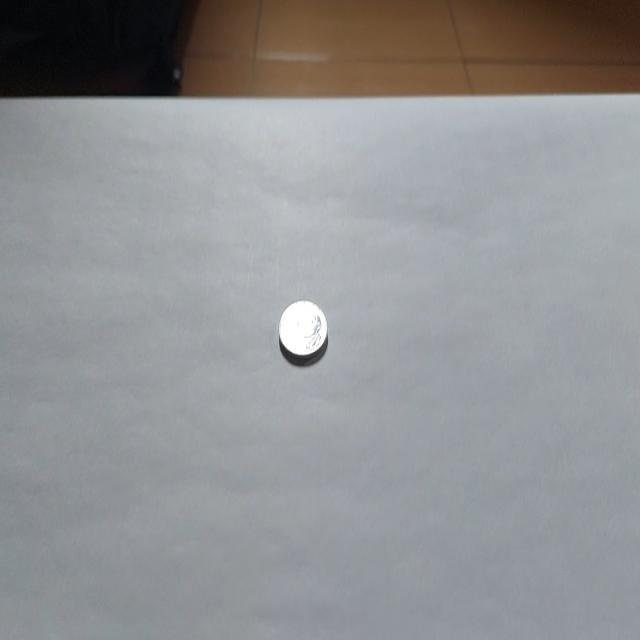lima ratus rupiah: (278, 298, 328, 367)
